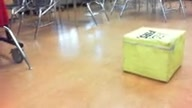cube: (122, 26, 186, 84)
